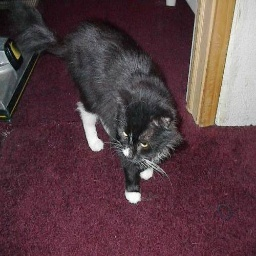cat: (14, 19, 179, 202)
